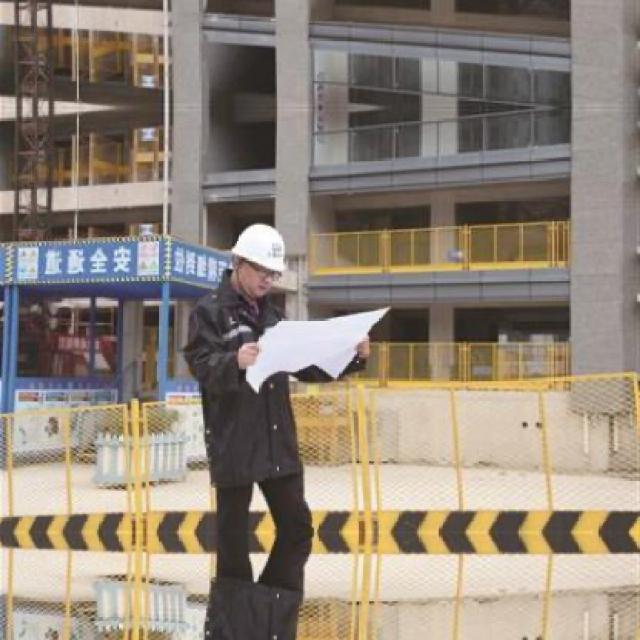helmet: (223, 214, 289, 300)
